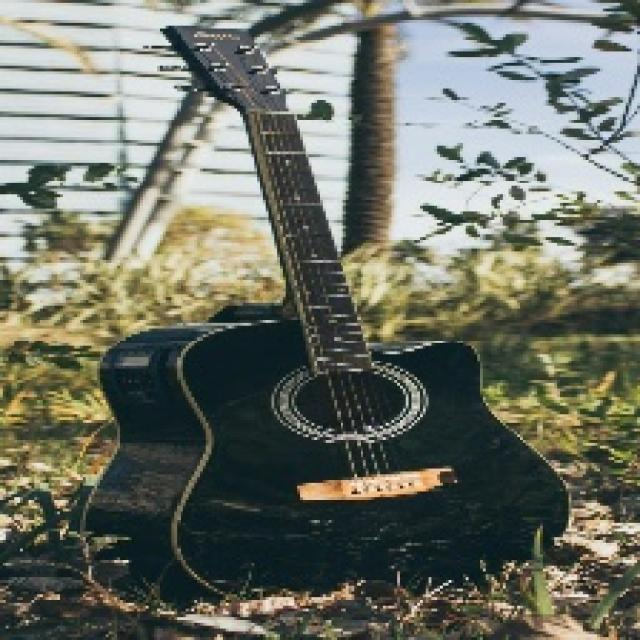guitar: (74, 24, 570, 594)
